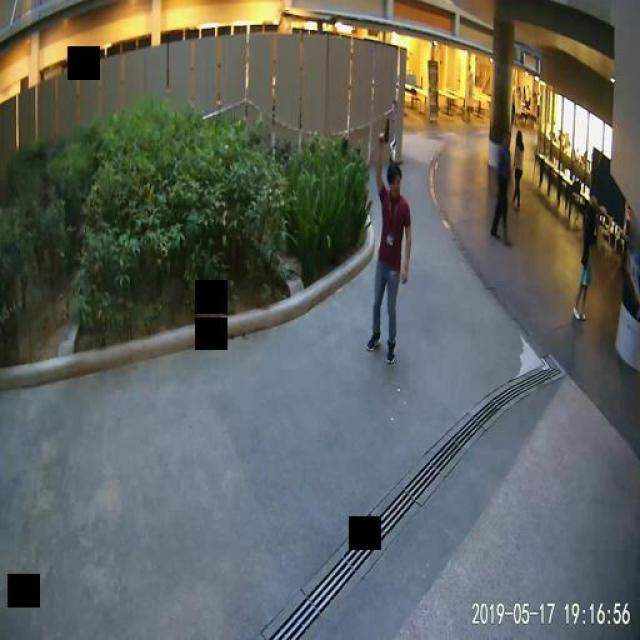gun: (378, 115, 388, 141)
